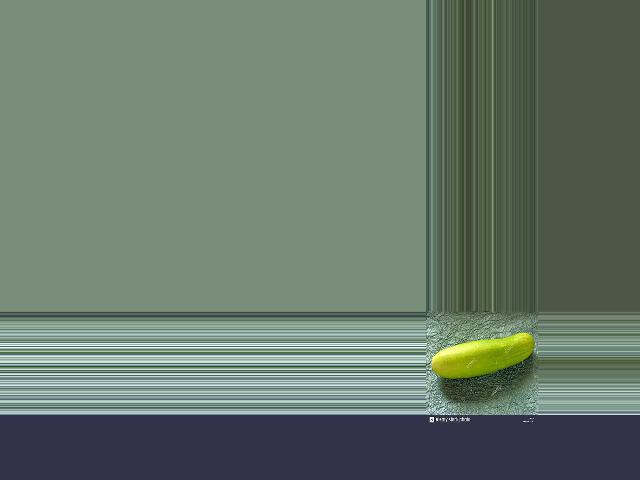cucumber: (431, 332, 535, 378)
